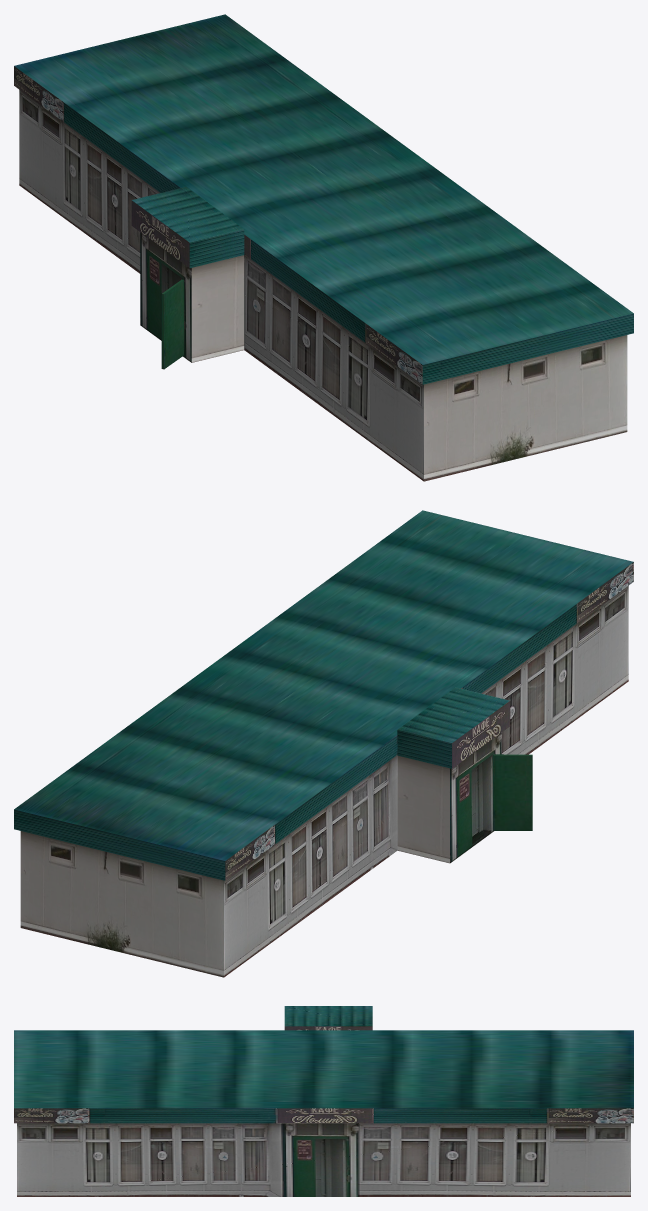
Rendered from r402_omsk_kafe1.FBX.
3 renders of one model, top to bottom at view 1: azimuth 30°, elevation 25°; view 2: azimuth 150°, elevation 25°; view 3: azimuth 270°, elevation 25°, orthographic. The views are drawn at different scales.
Parts seen in each view (by area): view 1: r402_omsk_kafe1; view 2: r402_omsk_kafe1; view 3: r402_omsk_kafe1.
Boxes of the visible parts, x1,y1,x2,y2 form: r402_omsk_kafe1: (14,14,633,481); r402_omsk_kafe1: (14,510,633,977); r402_omsk_kafe1: (14,1006,633,1196).
Size of the model in its own units: 768 by 1869 by 313.
